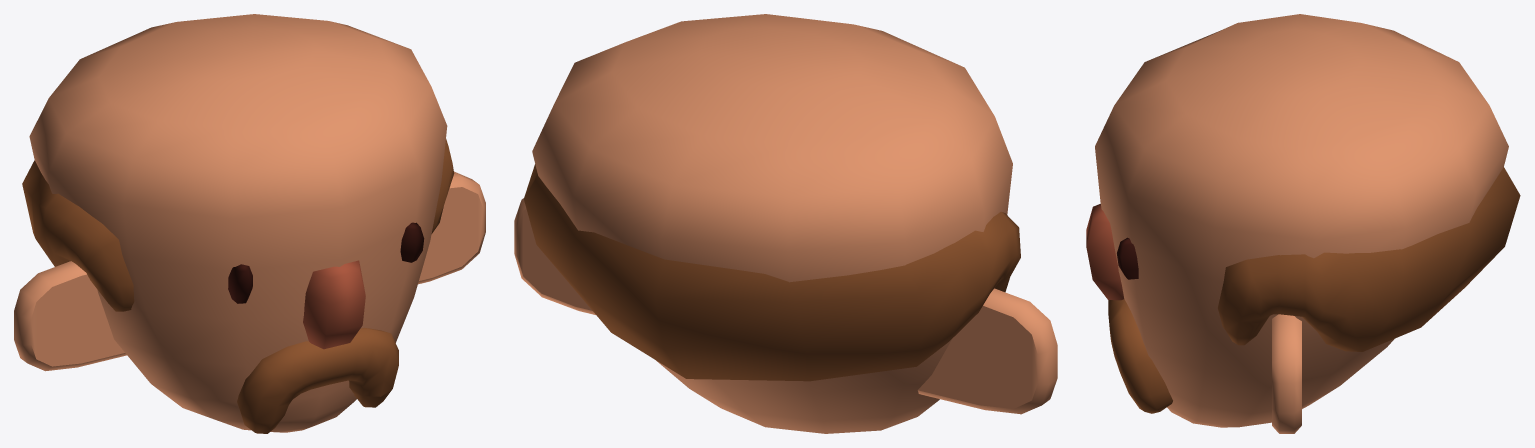
File: NPC_Groundskeeper_Head_Normal.fbx
3 renders of one model, left to right at view 1: azimuth 30°, elevation 25°; view 2: azimuth 150°, elevation 25°; view 3: azimuth 270°, elevation 25°, orthographic. The views are drawn at different scales.
Visible parts, largest first — view 1: NPC_Groundskeeper_Head_Normal; view 2: NPC_Groundskeeper_Head_Normal; view 3: NPC_Groundskeeper_Head_Normal.
Part boxes in pixels (x1,y1,x2,y2): NPC_Groundskeeper_Head_Normal: (14, 14, 485, 433); NPC_Groundskeeper_Head_Normal: (514, 14, 1057, 433); NPC_Groundskeeper_Head_Normal: (1086, 14, 1520, 433).
Bounding box in the file's own units: 3.32 × 2.3 × 2.61.
